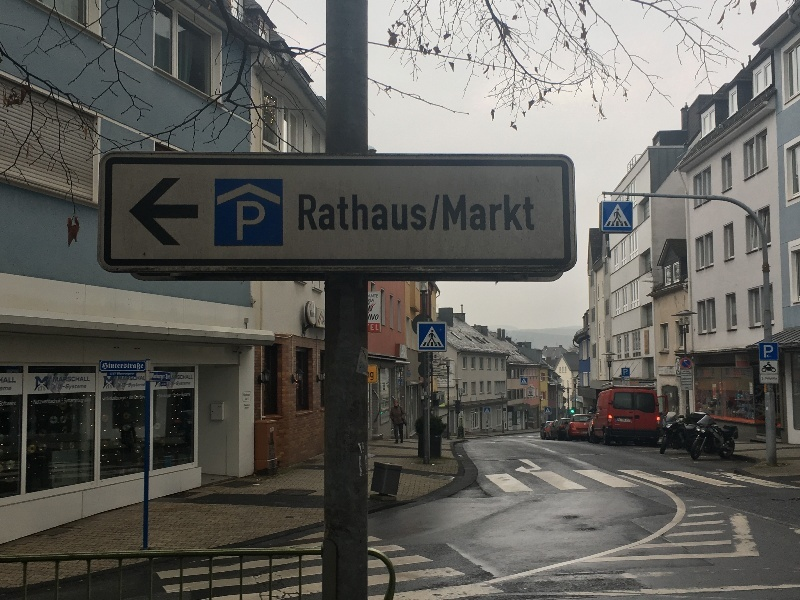text: (449, 193, 464, 233), (465, 193, 480, 233), (481, 193, 496, 233), (497, 193, 512, 233), (513, 193, 528, 233), (241, 202, 256, 241), (305, 195, 320, 231), (321, 195, 336, 231), (337, 195, 352, 231), (353, 195, 368, 231), (369, 195, 384, 231), (385, 195, 400, 231), (401, 195, 416, 231), (434, 195, 448, 231), (257, 202, 266, 241), (417, 195, 426, 231), (529, 193, 536, 233), (113, 373, 128, 389), (129, 373, 144, 389), (442, 193, 448, 233), (34, 376, 48, 392), (299, 195, 304, 231), (244, 394, 256, 409), (681, 371, 688, 390), (113, 363, 128, 371), (129, 363, 144, 371), (161, 392, 176, 399), (113, 395, 128, 402), (129, 395, 144, 402), (177, 392, 191, 399), (369, 306, 384, 312), (370, 314, 384, 320), (34, 399, 48, 405), (66, 384, 80, 390), (177, 375, 193, 380), (238, 202, 240, 241), (371, 325, 384, 331), (177, 381, 192, 386), (65, 399, 80, 404), (65, 377, 80, 382), (1, 378, 16, 383), (1, 401, 16, 406), (103, 363, 112, 371), (49, 399, 61, 405), (161, 374, 171, 381), (769, 346, 774, 358), (1, 387, 16, 391), (689, 371, 692, 390), (152, 374, 160, 381), (104, 395, 112, 402), (53, 377, 64, 382), (81, 399, 91, 404), (764, 346, 768, 358), (369, 372, 374, 381), (81, 377, 90, 382), (369, 294, 378, 298), (110, 373, 112, 389), (81, 384, 86, 390), (769, 377, 777, 380), (369, 299, 375, 303), (625, 370, 628, 376), (145, 373, 146, 389), (49, 376, 50, 392), (173, 375, 176, 380), (159, 392, 160, 399), (145, 395, 146, 402), (766, 377, 768, 380)
